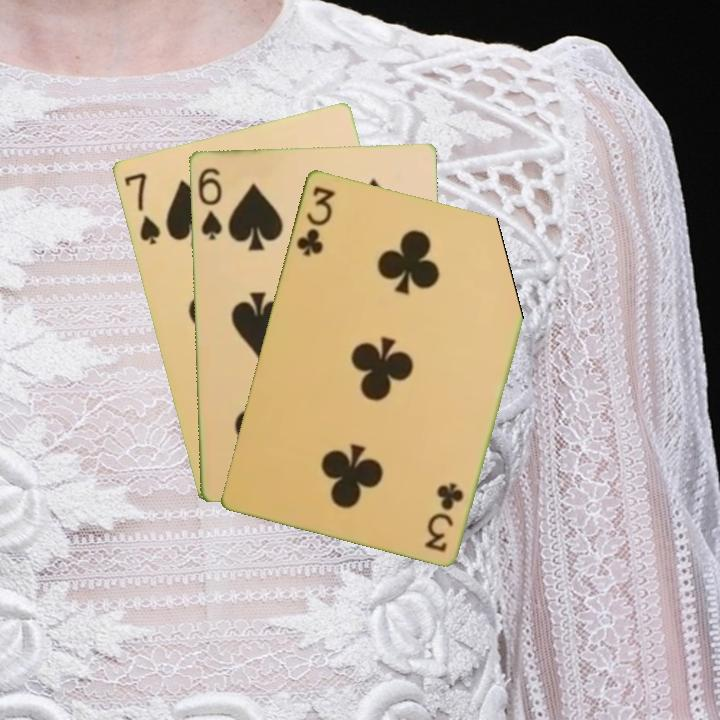3c: (292, 182, 338, 259), (424, 478, 466, 555)
6s: (194, 164, 225, 243)
7s: (120, 168, 163, 248)
